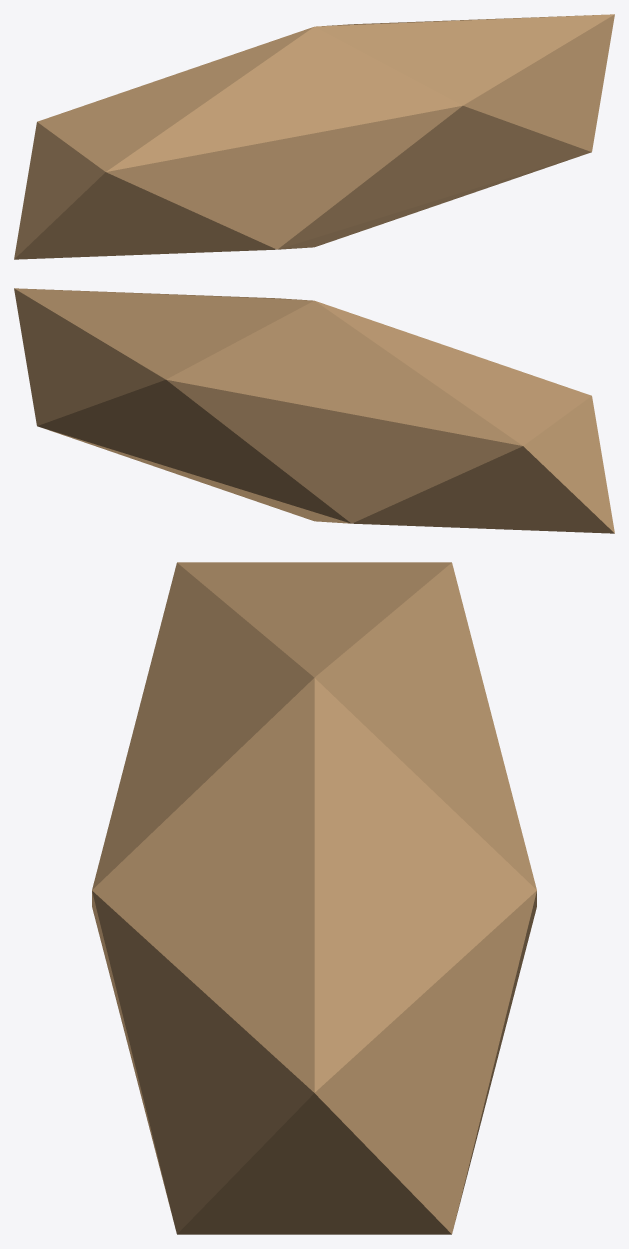
The picture shows the model from 3 angles, top to bottom: view 1: azimuth 30°, elevation 25°; view 2: azimuth 150°, elevation 25°; view 3: azimuth 270°, elevation 25°; orthographic projection. The views are drawn at different scales.
Visible parts, largest first — view 1: root_pal_khaki; view 2: root_pal_khaki; view 3: root_pal_khaki.
Boxes of the visible parts, <box> form: root_pal_khaki: <box>14,14,614,259</box>; root_pal_khaki: <box>14,288,614,533</box>; root_pal_khaki: <box>92,562,536,1234</box>.
Bounding box in the file's own units: 3.08 × 1.08 × 0.9867.
